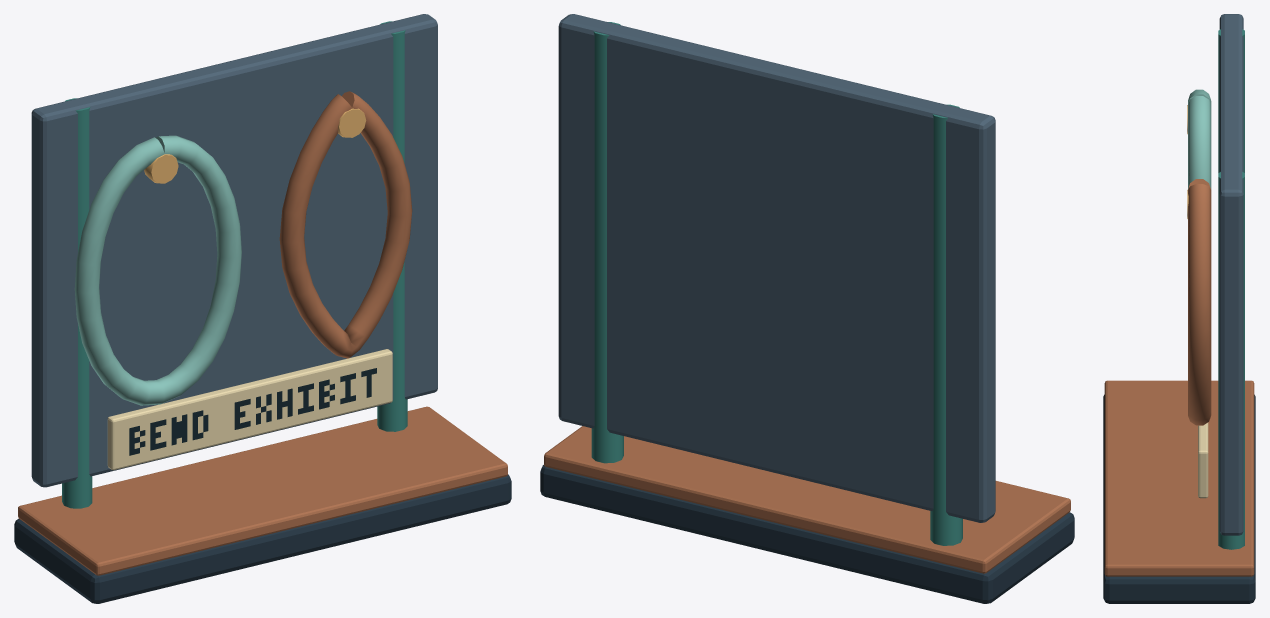
3 renders of one model, left to right at view 1: azimuth 30°, elevation 25°; view 2: azimuth 150°, elevation 25°; view 3: azimuth 270°, elevation 25°, orthographic. The views are drawn at different scales.
Parts seen in each view (by area): view 1: PR046 enamel and hardware; view 2: PR046 enamel and hardware; view 3: PR046 enamel and hardware.
Part boxes in pixels (x1,y1,x2,y2): PR046 enamel and hardware: (14, 14, 511, 603); PR046 enamel and hardware: (540, 14, 1074, 603); PR046 enamel and hardware: (1103, 14, 1255, 603).
Size of the model in its own units: 1.19 by 1.2 by 0.4053.
